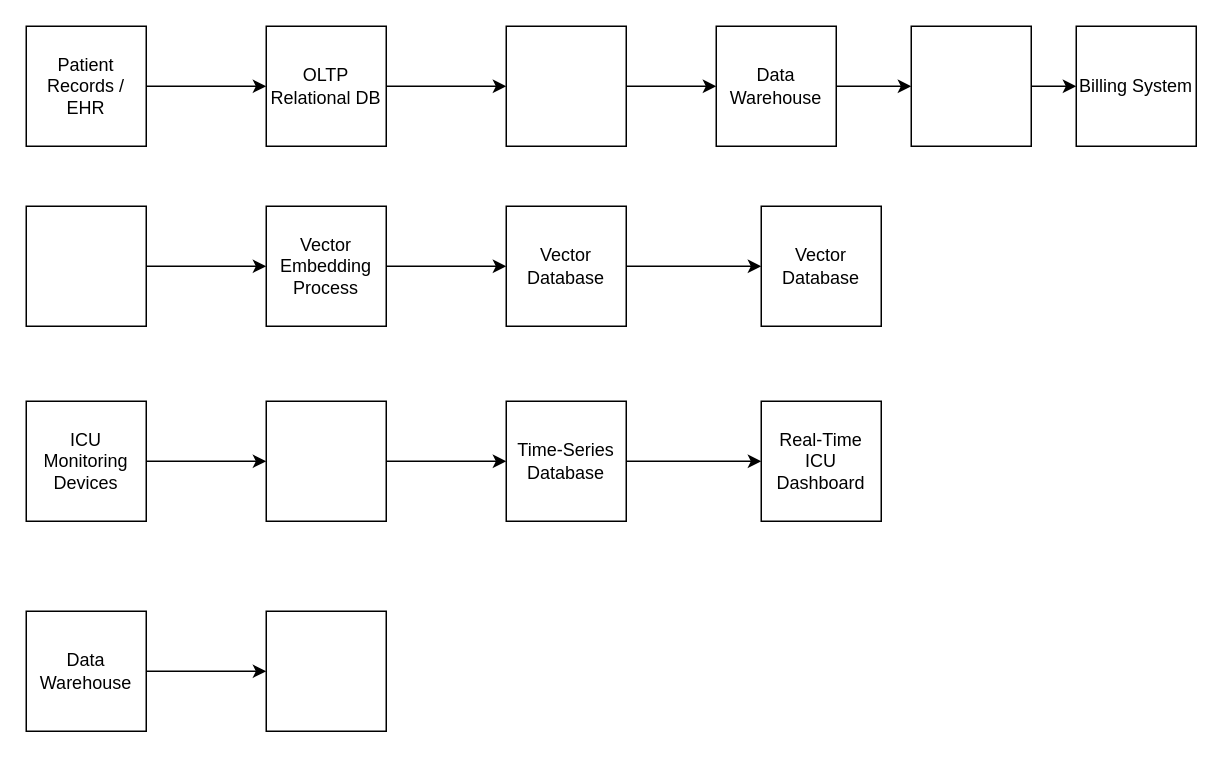
Some shapes in this 1223 by 758 pixel diagram are drawn without their labels. Here are the shapes that lost their labels. From the top down, the box of each, then its label:
(505, 25, 626, 146): ETL Pipeline
(910, 25, 1031, 146): Readmission Risk Model
(25, 205, 146, 326): Clinical Notes / Reports
(265, 400, 386, 521): Kafka / Streaming
(265, 610, 386, 731): Monthly Management Reports
